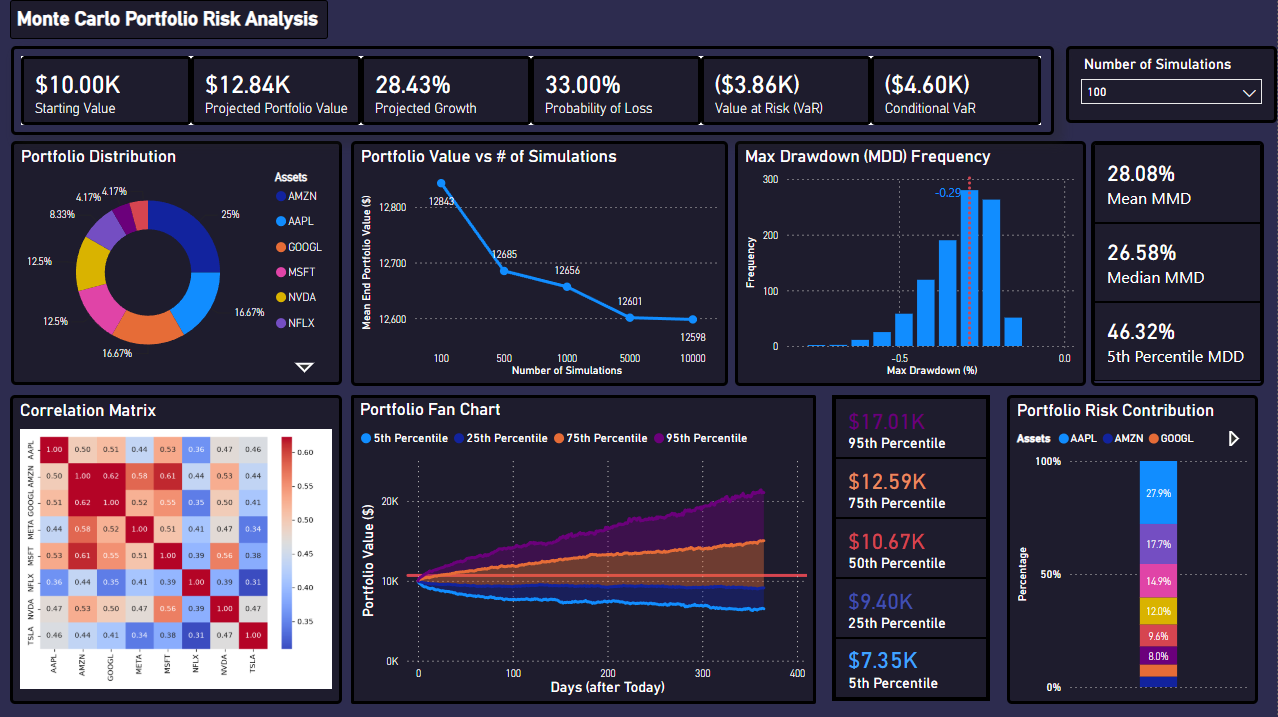

The dashboard page shown, as its layout file describes it:
{"tool":"powerbi","page":{"name":"Page 1","canvas":[1280,720],"ordinal":0},"visuals":[{"type":"pythonVisual","title":"Correlation Matrix","fields":{"Values":["covariance_matrix.Column1","Sum(covariance_matrix.TSLA)","covariance_matrix.NVDA","Sum(covariance_matrix.NFLX)","Sum(covariance_matrix.MSFT)","Sum(covariance_matrix.META)","Sum(covariance_matrix.GOOGL)","Sum(covariance_matrix.AMZN)","covariance_matrix.AAPL"]},"box":[12.6,394.9,332.6,309.3],"z":0},{"type":"stackedAreaChart","title":"Portfolio Fan Chart","fields":{"Category":["simulation_paths.period"],"Y":["simulation_paths.P5","simulation_paths.Band_5_25","simulation_paths.Band_25_75","simulation_paths.Band_75_95"]},"box":[354,394.9,464.9,309.3],"z":1000},{"type":"donutChart","title":"Portfolio Distribution","fields":{"Category":["tickers.tickers"],"Y":["Sum(tickers.num_shares)"]},"box":[13.6,141,331.7,244.1],"z":2000},{"type":"textbox","box":[12.6,0,318.1,38.9],"z":3000},{"type":"cardVisual","fields":{"Data":["simulation_paths.P95","simulation_paths.P75","simulation_paths.P50","simulation_paths.P25","simulation_paths.P5"]},"box":[830,395,168,309],"z":4000},{"type":"clusteredColumnChart","title":"Max Drawdown (MDD) Frequency","fields":{"Category":["mdd_distribution.max_drawdown (bins)"],"Y":["CountNonNull(mdd_distribution.max_drawdown)"]},"box":[738.2,141,351.1,245.1],"z":5000},{"type":"cardVisual","fields":{"Data":["simulation_summary.MDD_Mean_Abs","simulation_summary.MDD_Median_Abs","simulation_summary.MDD_Worst_Abs"]},"box":[1094,141,173,245],"z":6000},{"type":"columnChart","title":"Portfolio Risk Contribution","fields":{"Y":["Sum(risk_contribution.contribution_percent)"],"Series":["risk_contribution.asset"]},"box":[1009.6,394.9,250.9,309.3],"z":7000},{"type":"slicer","fields":{"Values":["convergence.n_simulations"]},"box":[1069,46,211,77],"z":8000},{"type":"cardVisual","fields":{"Data":["simulation_paths.Starting_Value","Sum(convergence.mean_ending_value)","Sum(convergence.projected_growth)","Sum(convergence.prob_of_loss)","Sum(convergence.dollar_var)","Sum(convergence.dollar_cvar)"]},"box":[13.6,45.7,1043.6,89.5],"z":9000},{"type":"lineChart","title":"Portfolio Value vs # of Simulations","fields":{"Y":["Sum(convergence.mean_ending_value)"],"Category":["convergence.n_simulations"]},"box":[354,141,377.4,245.1],"z":10000}]}

Visuals, with their boxes in screenshot pixels (x1, y1, x2, y2), scaled from the page's 1280x720 canvas onto the 1278x717 screenshot:
"Correlation Matrix" pythonVisual: bbox=[13, 393, 345, 701]
"Portfolio Fan Chart" stackedAreaChart: bbox=[353, 393, 818, 701]
"Portfolio Distribution" donutChart: bbox=[14, 140, 345, 383]
textbox: bbox=[13, 0, 330, 39]
cardVisual - simulation_paths.P95 x simulation_paths.P75: bbox=[829, 393, 996, 701]
"Max Drawdown (MDD) Frequency" clusteredColumnChart: bbox=[737, 140, 1088, 384]
cardVisual - simulation_summary.MDD_Mean_Abs x simulation_summary.MDD_Median_Abs: bbox=[1092, 140, 1265, 384]
"Portfolio Risk Contribution" columnChart: bbox=[1008, 393, 1259, 701]
slicer - convergence.n_simulations: bbox=[1067, 46, 1277, 122]
cardVisual - simulation_paths.Starting_Value x Sum(convergence.mean_ending_value): bbox=[14, 46, 1056, 135]
"Portfolio Value vs # of Simulations" lineChart: bbox=[353, 140, 730, 384]
